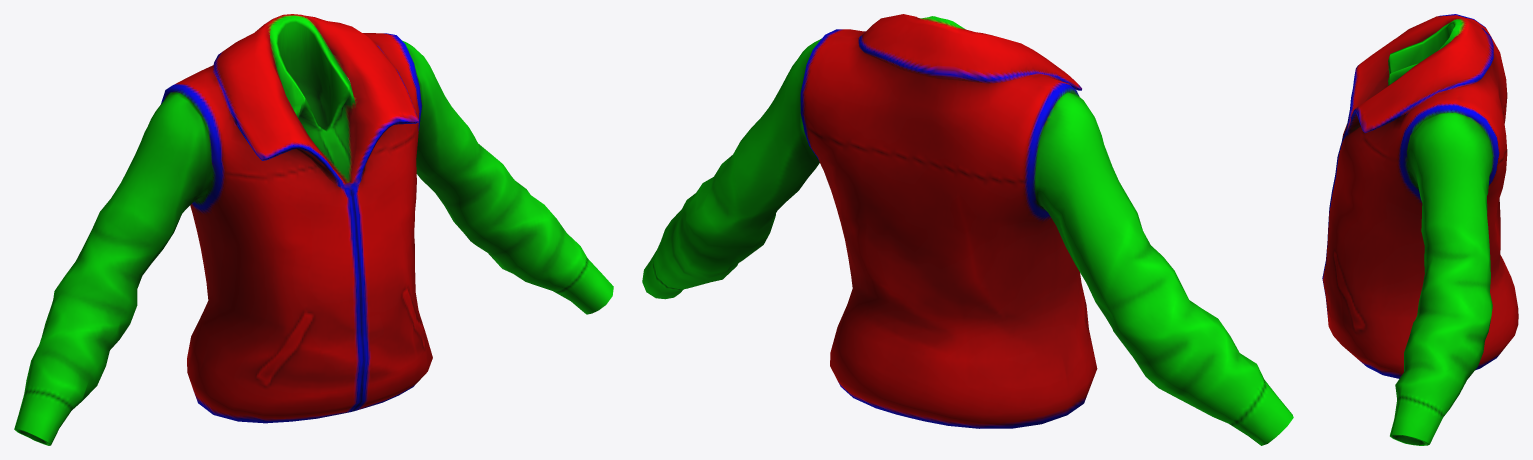
File: Top_TechVest.obj
3 views of the same model, side by side, from view 1: azimuth 30°, elevation 25°; view 2: azimuth 150°, elevation 25°; view 3: azimuth 270°, elevation 25° (orthographic). The views are drawn at different scales.
Parts seen in each view (by area): view 1: Top_TechVest_0; view 2: Top_TechVest_0; view 3: Top_TechVest_0.
Part boxes in pixels (x1,y1,x2,y2): Top_TechVest_0: [14, 14, 613, 445]; Top_TechVest_0: [642, 14, 1293, 445]; Top_TechVest_0: [1322, 14, 1518, 445].
Bounding box in the file's own units: 0.8778 × 0.4963 × 0.2826.
Materials: 1 (1 with a texture image).
